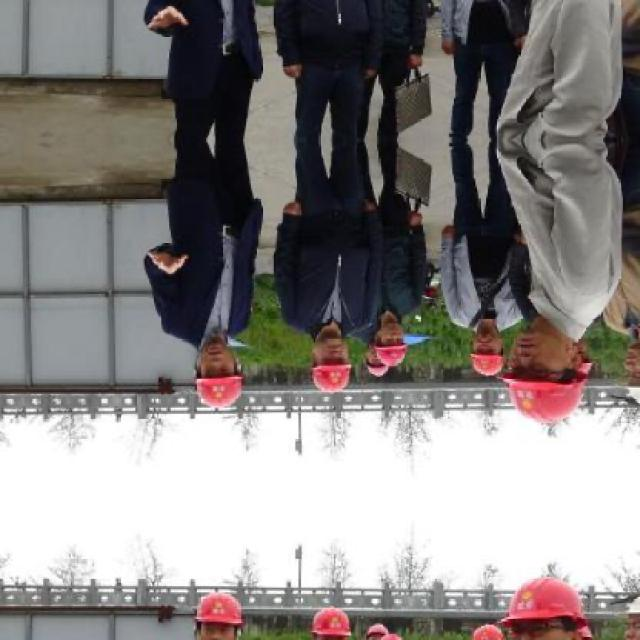con casco: (497, 308, 612, 428), (183, 333, 261, 399), (303, 330, 377, 393), (443, 324, 496, 384), (354, 328, 398, 384)
